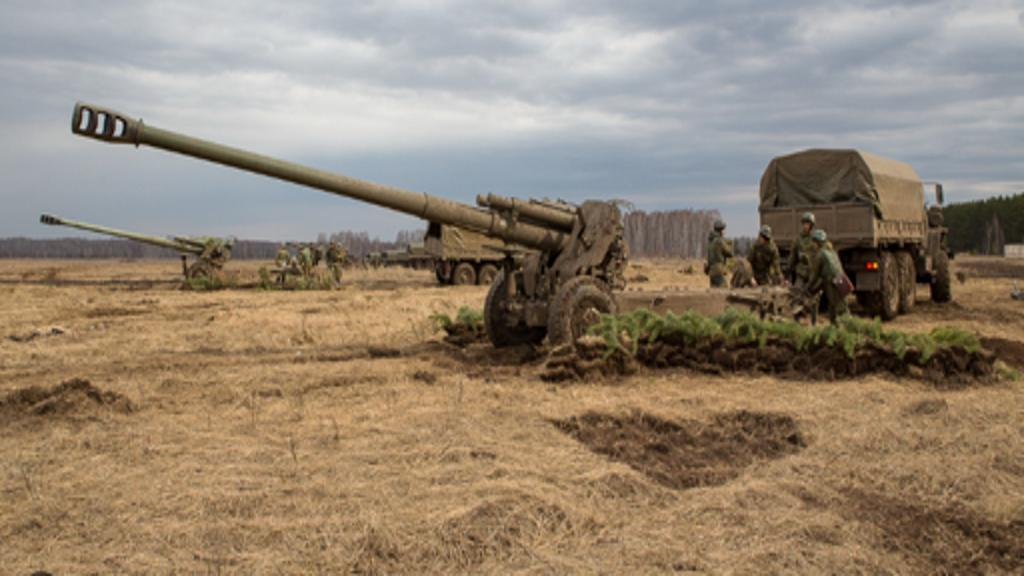ART: (70, 101, 804, 356), (36, 210, 338, 293)
TRUCK: (754, 142, 958, 324), (420, 215, 510, 286)
